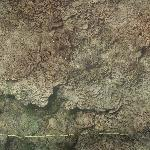dead: (4, 4, 147, 147)
